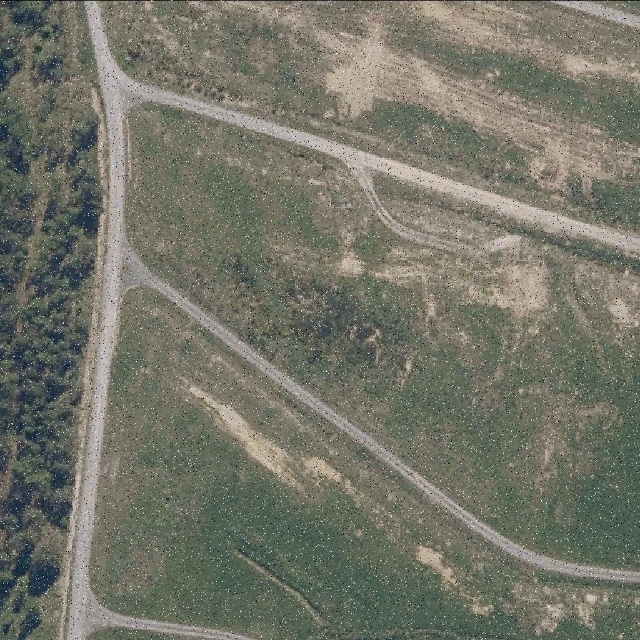vegetation: (0, 0, 104, 630)
